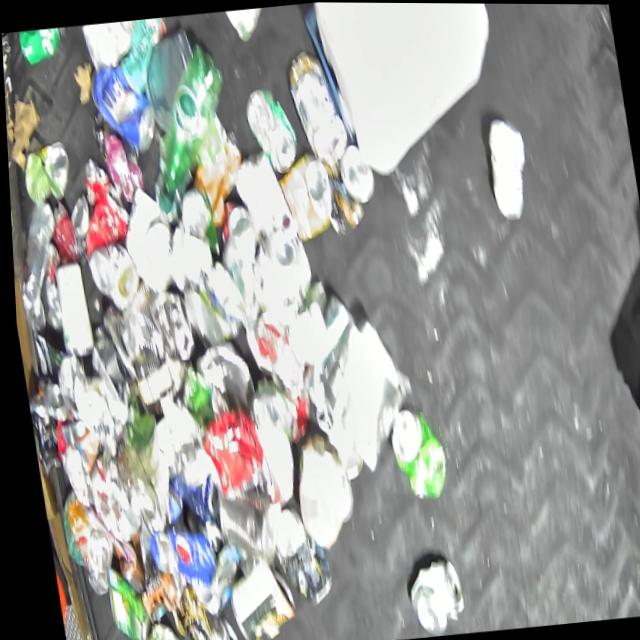can: (107, 274, 198, 408), (281, 45, 349, 169), (84, 58, 158, 158), (261, 499, 329, 607), (217, 554, 293, 640), (380, 403, 446, 502), (315, 141, 380, 237), (270, 148, 334, 243), (395, 552, 462, 638), (50, 482, 110, 576), (239, 83, 299, 176), (479, 114, 531, 221), (208, 486, 273, 567), (73, 186, 132, 263), (47, 260, 92, 357), (82, 241, 140, 311), (96, 562, 144, 640), (16, 139, 72, 205), (36, 377, 73, 473), (22, 391, 58, 479), (63, 190, 93, 263), (178, 607, 241, 640), (77, 155, 110, 203), (126, 619, 176, 640)
milk_jug: (311, 2, 509, 180)
